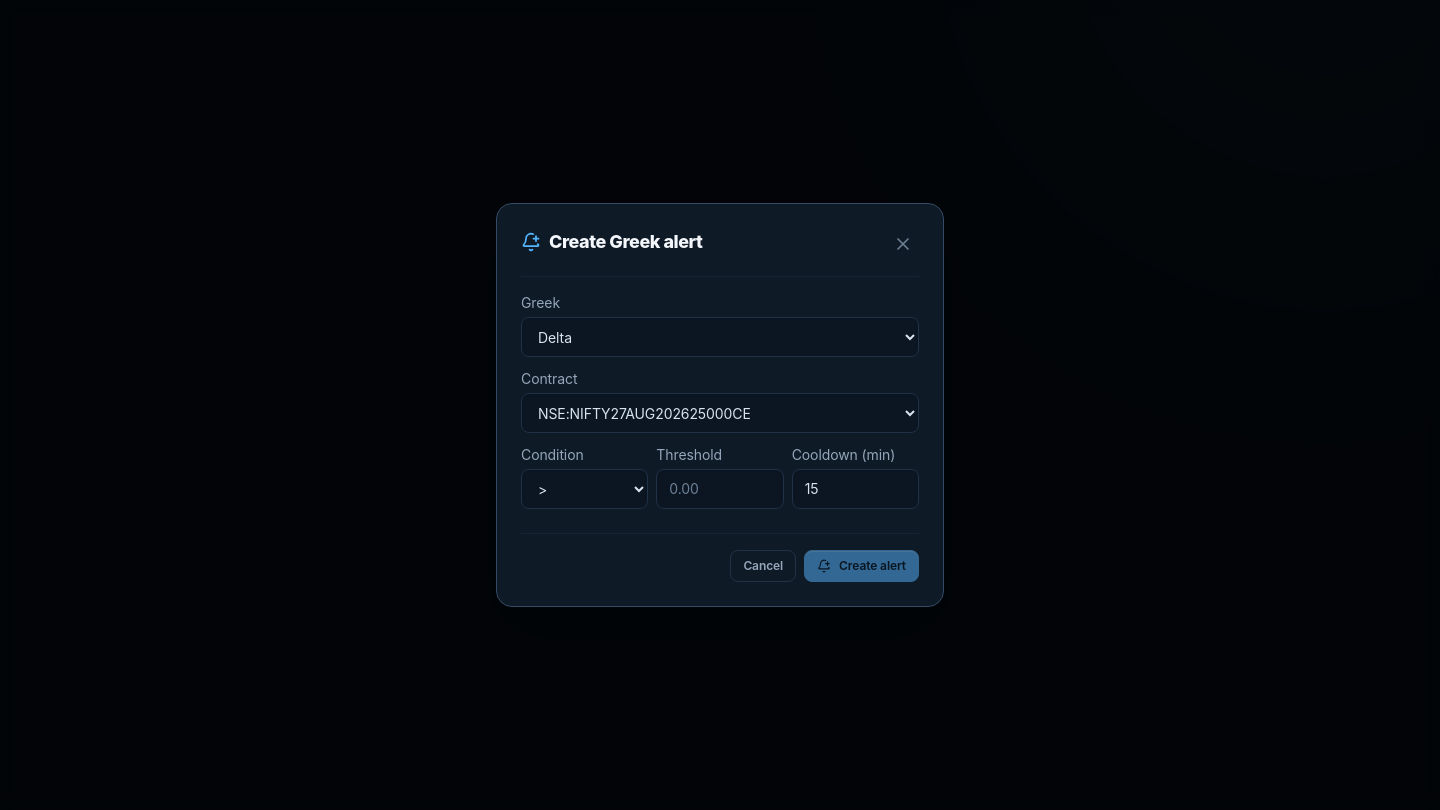
Test case: CreateGreekAlertModal › creates an alert for the selected contract, metric, operator, and threshold
Select "<" in the dropdown named "Alert operator" at [585, 489], box [521,469,648,509]
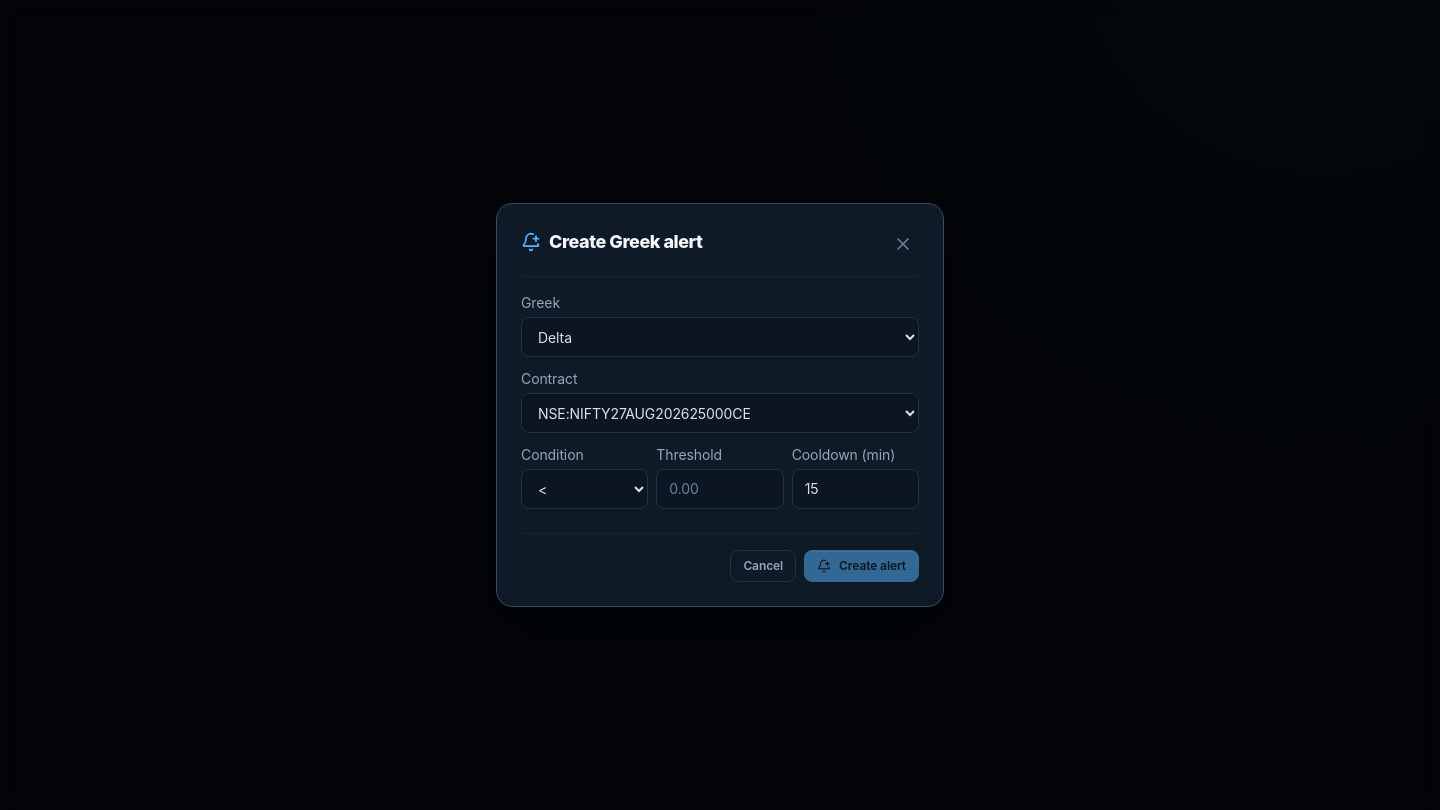
Type "0.35" into the number field named "Alert threshold" at [720, 489], box [656,469,784,509]
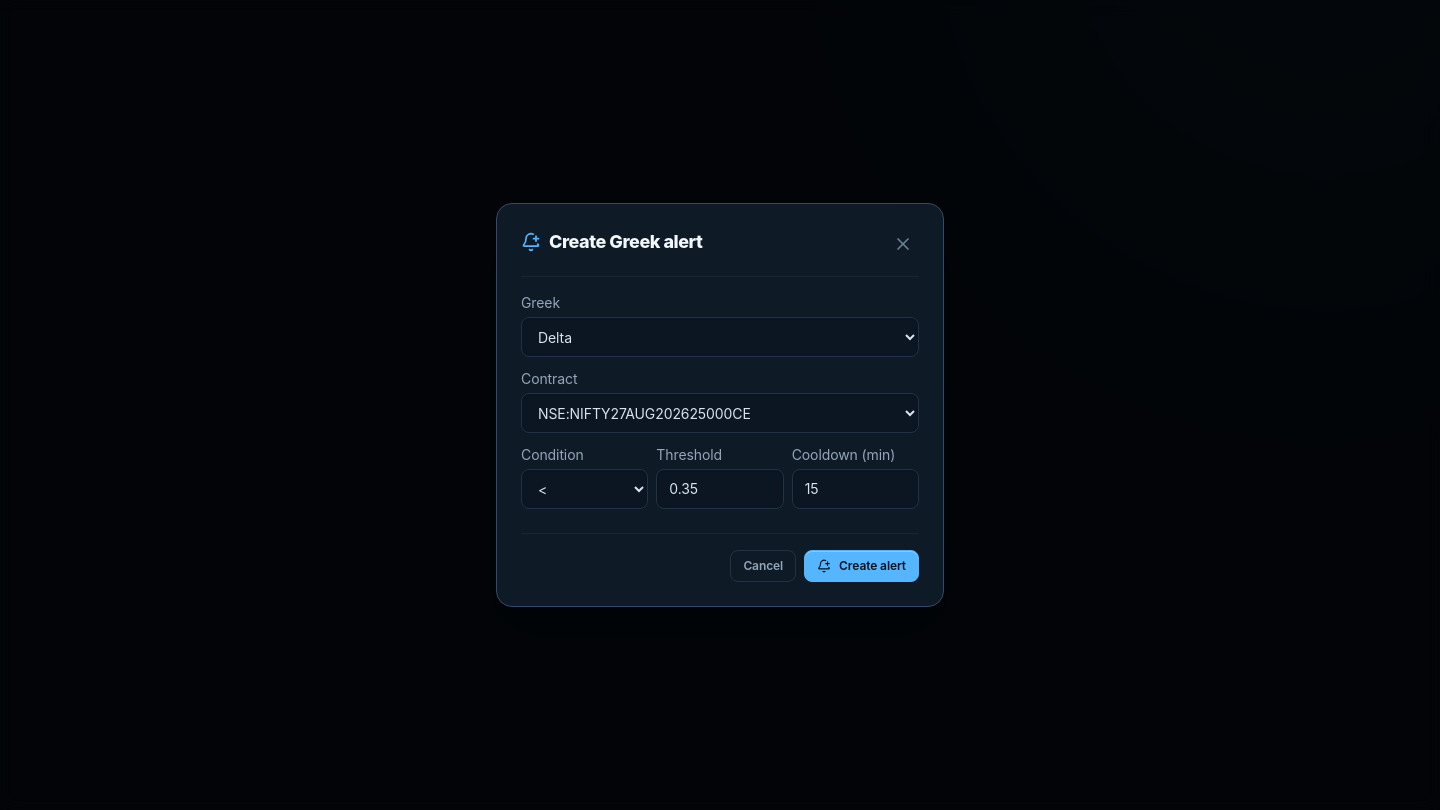
Click the button "Create alert" at [862, 566], box [804,550,919,582]
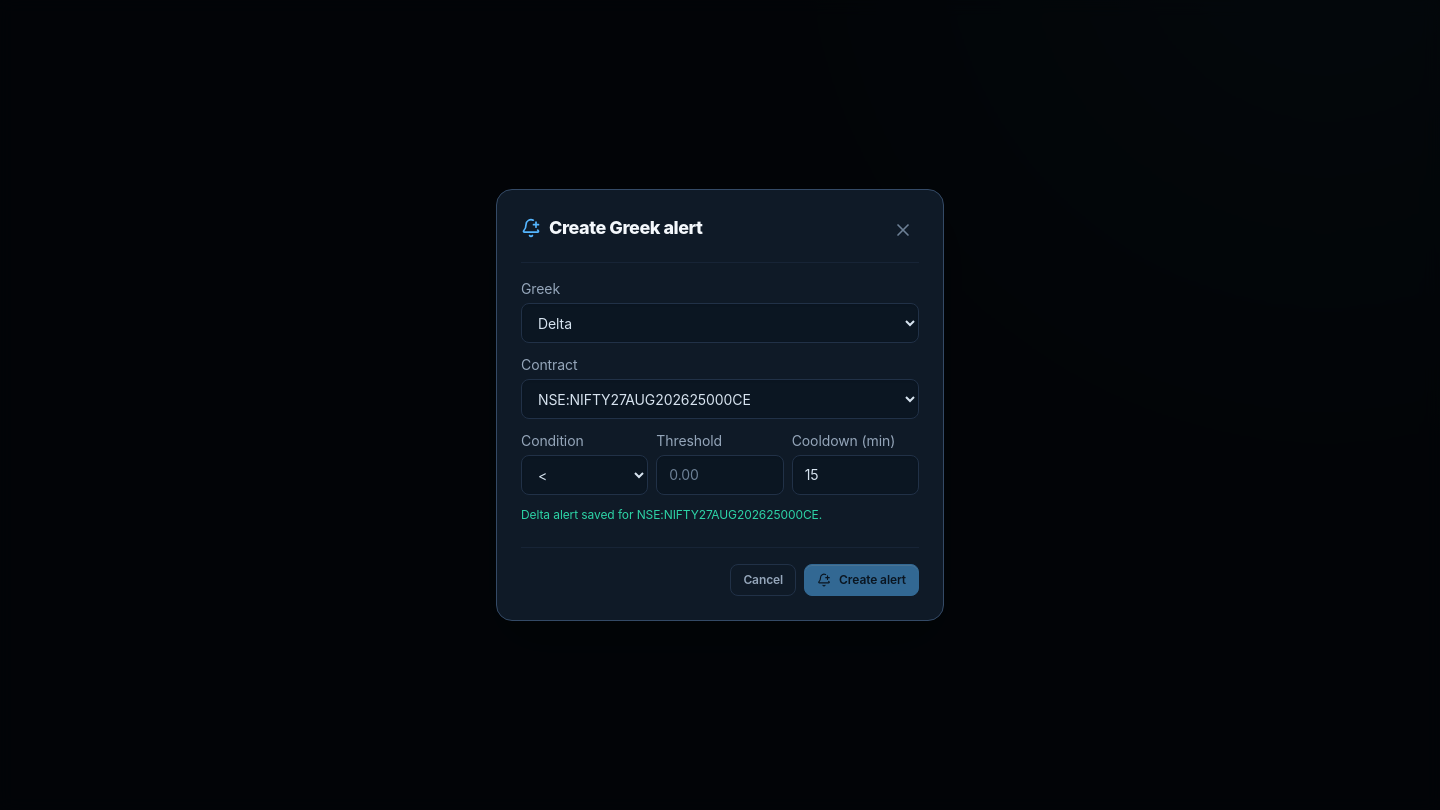
Check: the message shows "Delta alert saved", box [521,507,822,522]
